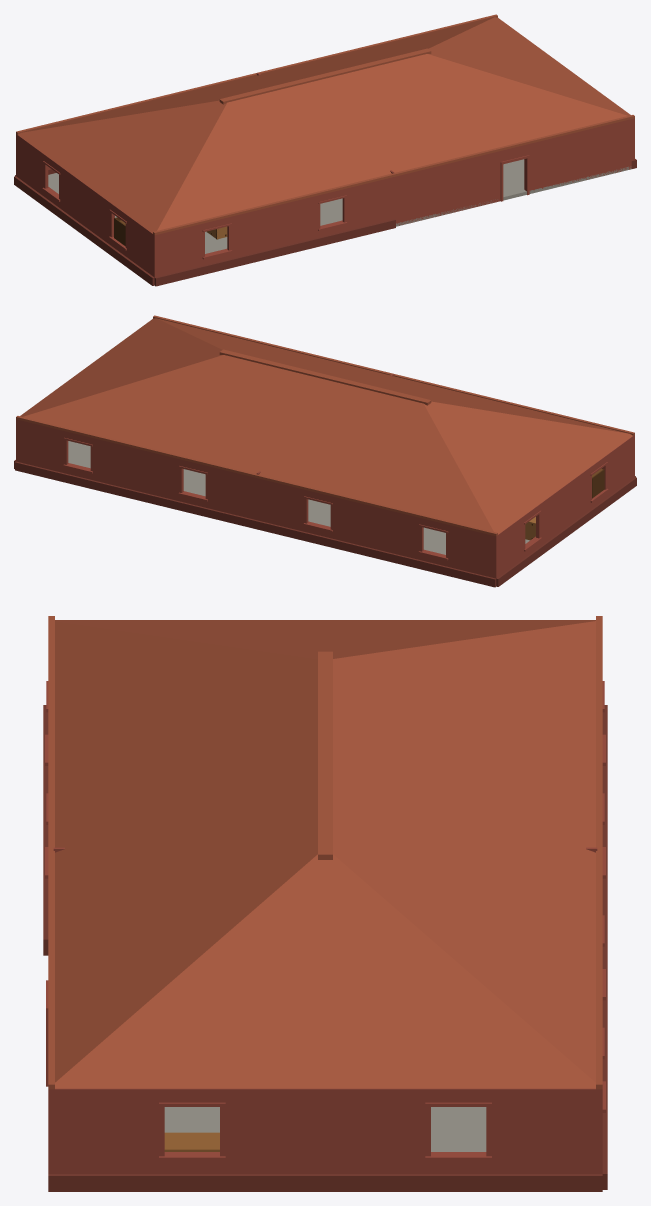
Rendered from farmhouse_stone.glb.
3 views of the same model, one above another, from view 1: azimuth 30°, elevation 25°; view 2: azimuth 150°, elevation 25°; view 3: azimuth 270°, elevation 25° (orthographic). The views are drawn at different scales.
Visible parts, largest first — view 1: farmhouse_stone; view 2: farmhouse_stone; view 3: farmhouse_stone.
Part boxes in pixels (bbox=[...]): farmhouse_stone: bbox=[14, 14, 636, 286]; farmhouse_stone: bbox=[14, 315, 636, 587]; farmhouse_stone: bbox=[43, 616, 607, 1191].
Bounding box in the file's own units: 30.26 × 6.04 × 15.26.
